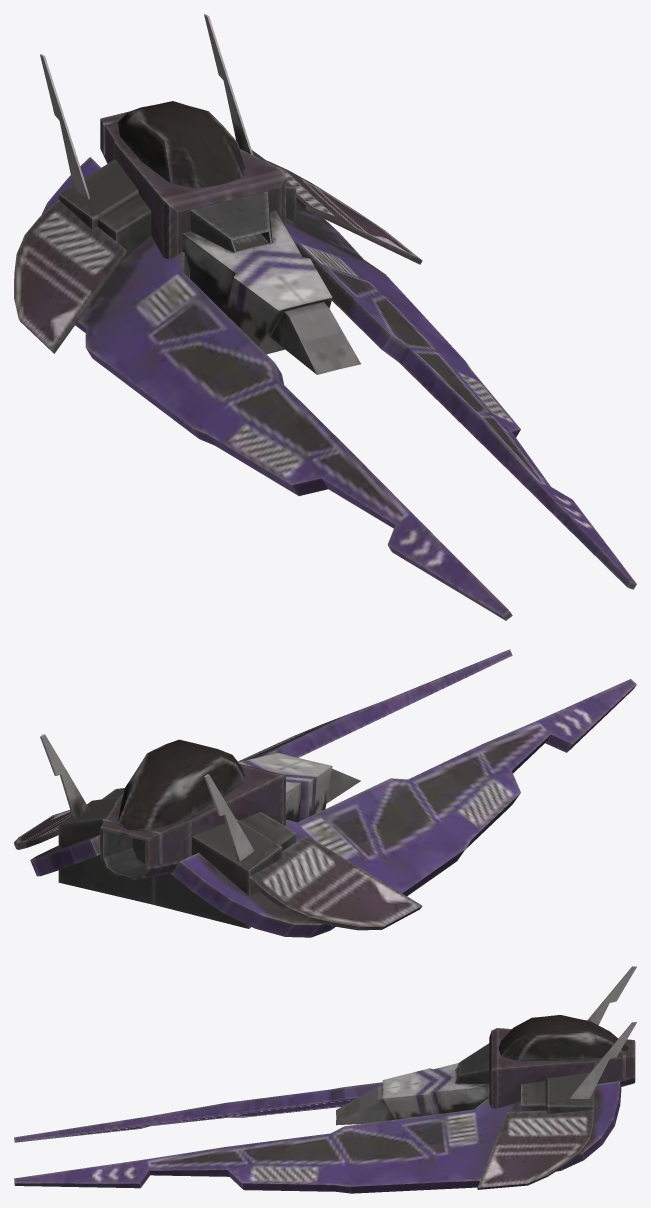
The model's file is ship_dispatcher.glb.
3 renders of one model, top to bottom at view 1: azimuth 30°, elevation 25°; view 2: azimuth 150°, elevation 25°; view 3: azimuth 270°, elevation 25°, orthographic. The views are drawn at different scales.
Parts seen in each view (by area): view 1: Dispatcher; view 2: Dispatcher; view 3: Dispatcher.
Part boxes in pixels (x1,y1,x2,y2): Dispatcher: (14,14,636,620); Dispatcher: (14,649,636,937); Dispatcher: (14,966,636,1193).
Size of the model in its own units: 4.9 by 3.09 by 10.26.
1 material, 1 textured.
